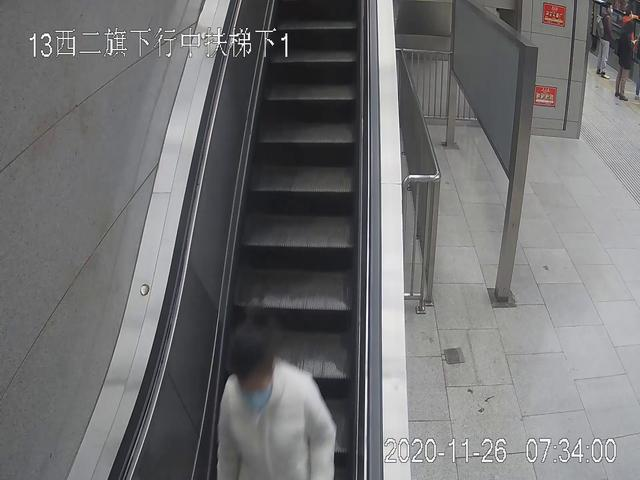person: (219, 322, 337, 480), (616, 20, 635, 102), (594, 3, 611, 79)
